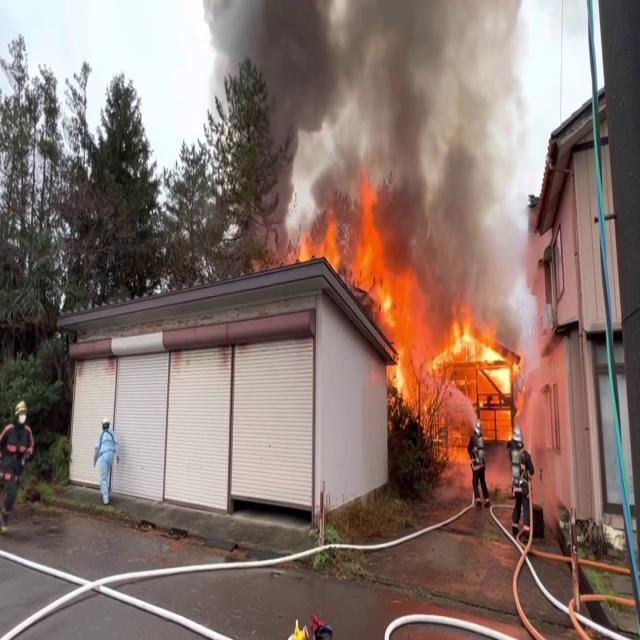Fire: (380, 274, 524, 420), (302, 182, 393, 300)
Smoke: (237, 0, 548, 269)
